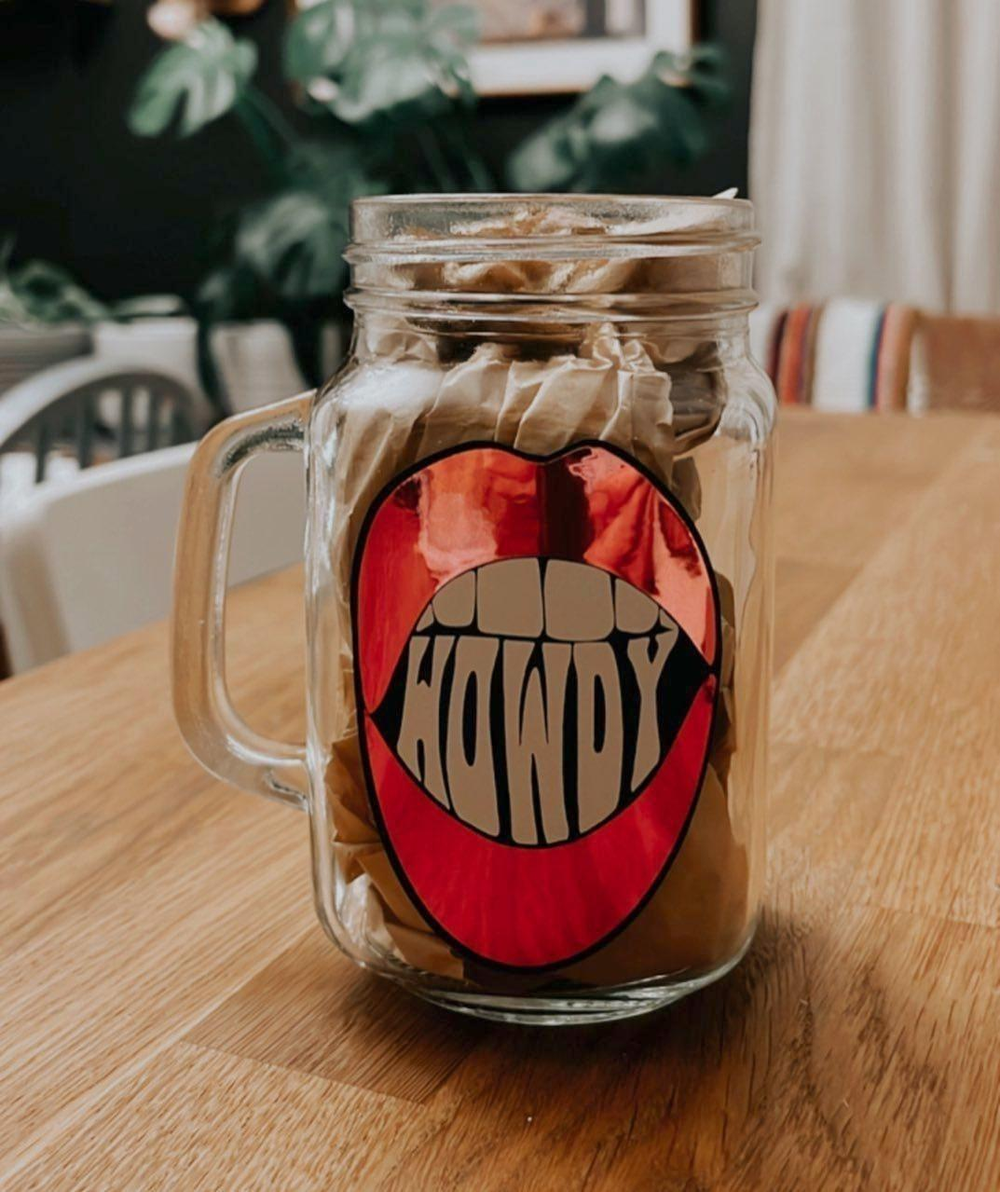glass-mug: (169, 165, 796, 1054)
